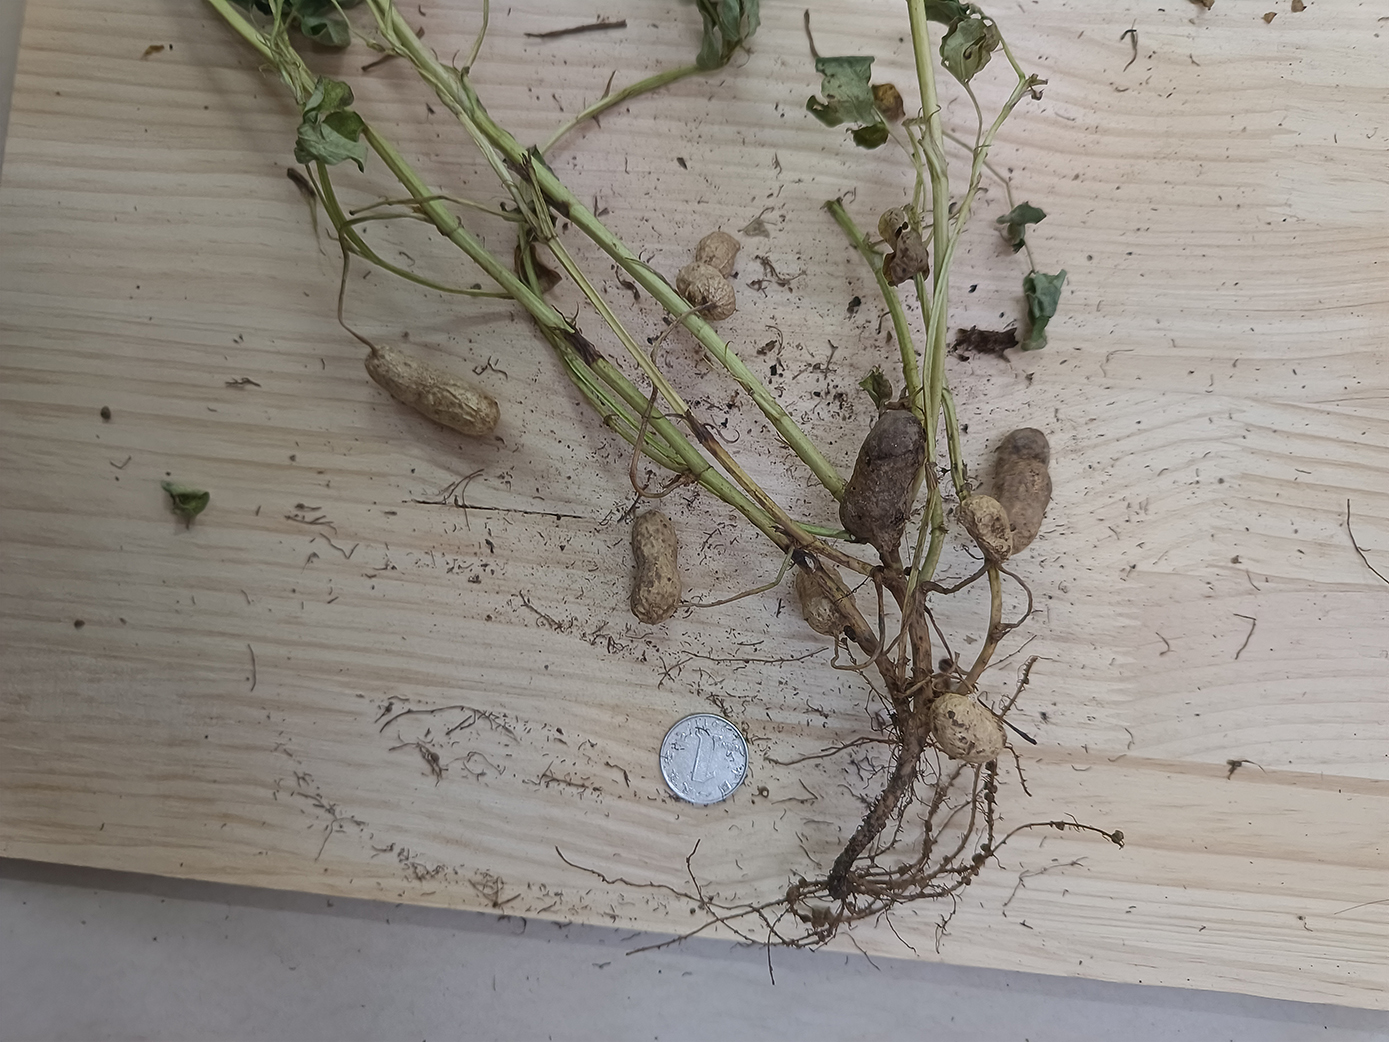h: (364, 343, 499, 437), (629, 511, 680, 626), (929, 690, 1004, 767), (678, 232, 740, 319), (797, 564, 856, 637), (957, 495, 1015, 561)
l: (837, 410, 922, 536), (993, 425, 1051, 553)
